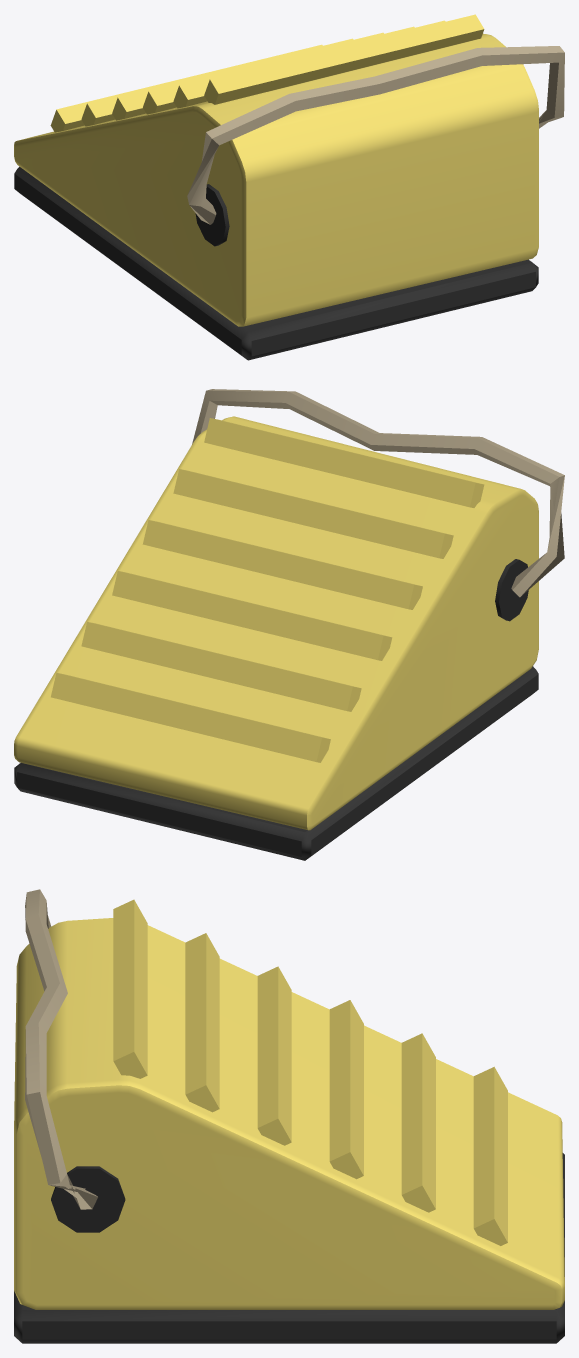
File: door_wedge.glb
3 renders of one model, top to bottom at view 1: azimuth 30°, elevation 25°; view 2: azimuth 150°, elevation 25°; view 3: azimuth 270°, elevation 25°, orthographic. The views are drawn at different scales.
Visible parts, largest first — view 1: body; view 2: body; view 3: body.
Boxes of the visible parts, x1=… form: body: x1=14, y1=14, x2=564, y2=360; body: x1=14, y1=389, x2=564, y2=860; body: x1=14, y1=889, x2=564, y2=1343.
Size of the model in its own units: 0.0481 by 0.0305 by 0.052.
